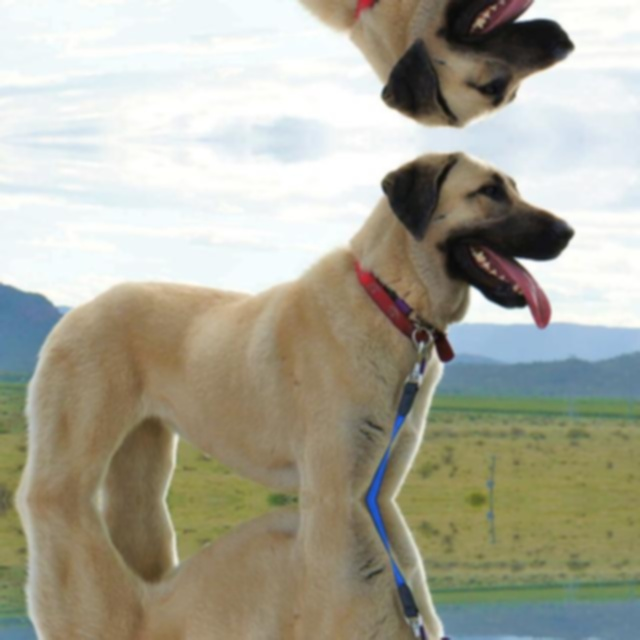dog: (24, 146, 576, 499), (24, 499, 576, 640), (24, 0, 576, 131)
